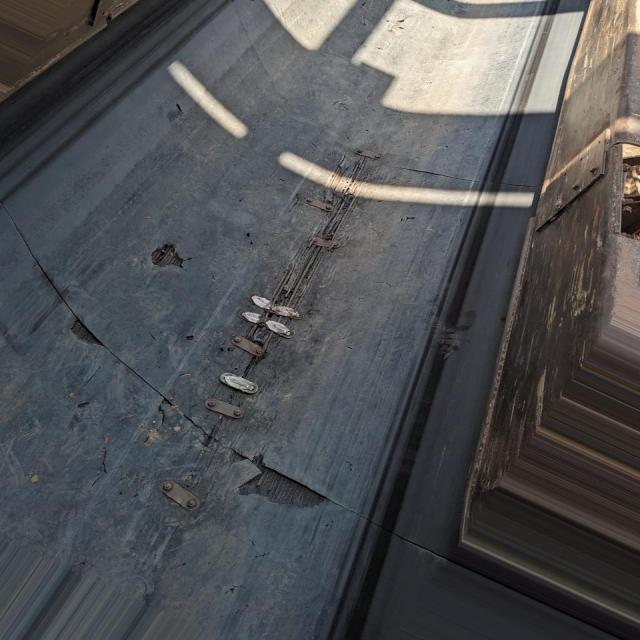Tear: (1, 206, 362, 518), (417, 165, 479, 186), (153, 242, 193, 272), (166, 103, 194, 129)
patch work: (198, 136, 391, 429), (149, 445, 209, 518)
